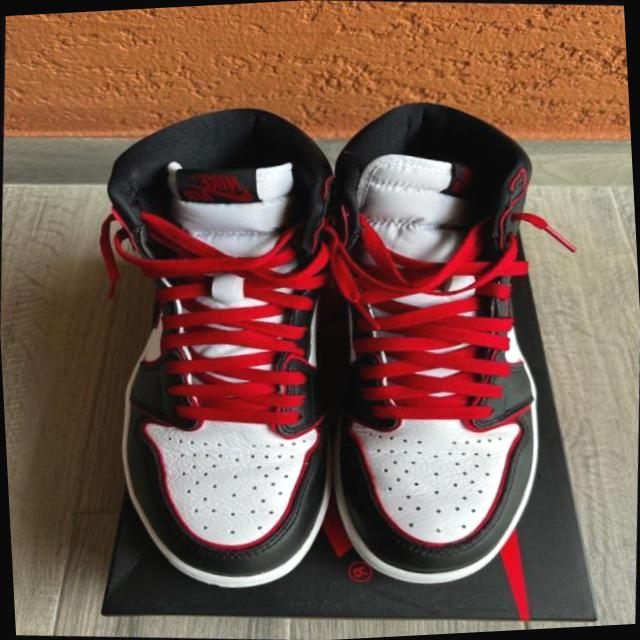nike_original_jordan: (71, 94, 368, 604), (288, 84, 580, 599)
